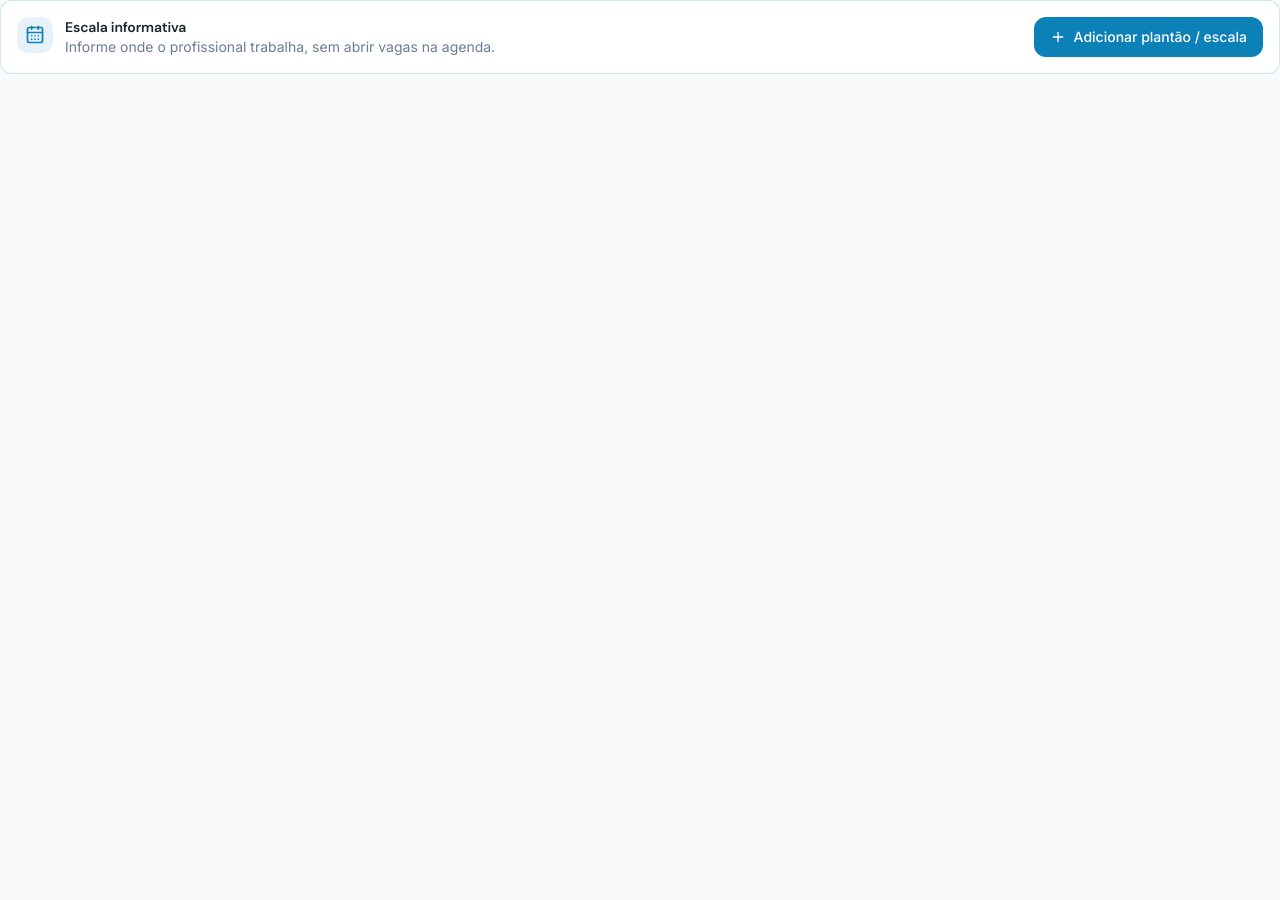
Test case: cadastro informativo › informa quantos dias da semana serão repetidos, sem contar a mesma segunda duas vezes
Click the button "Adicionar plantão / escala": (1148, 37) [1034,17,1263,57]
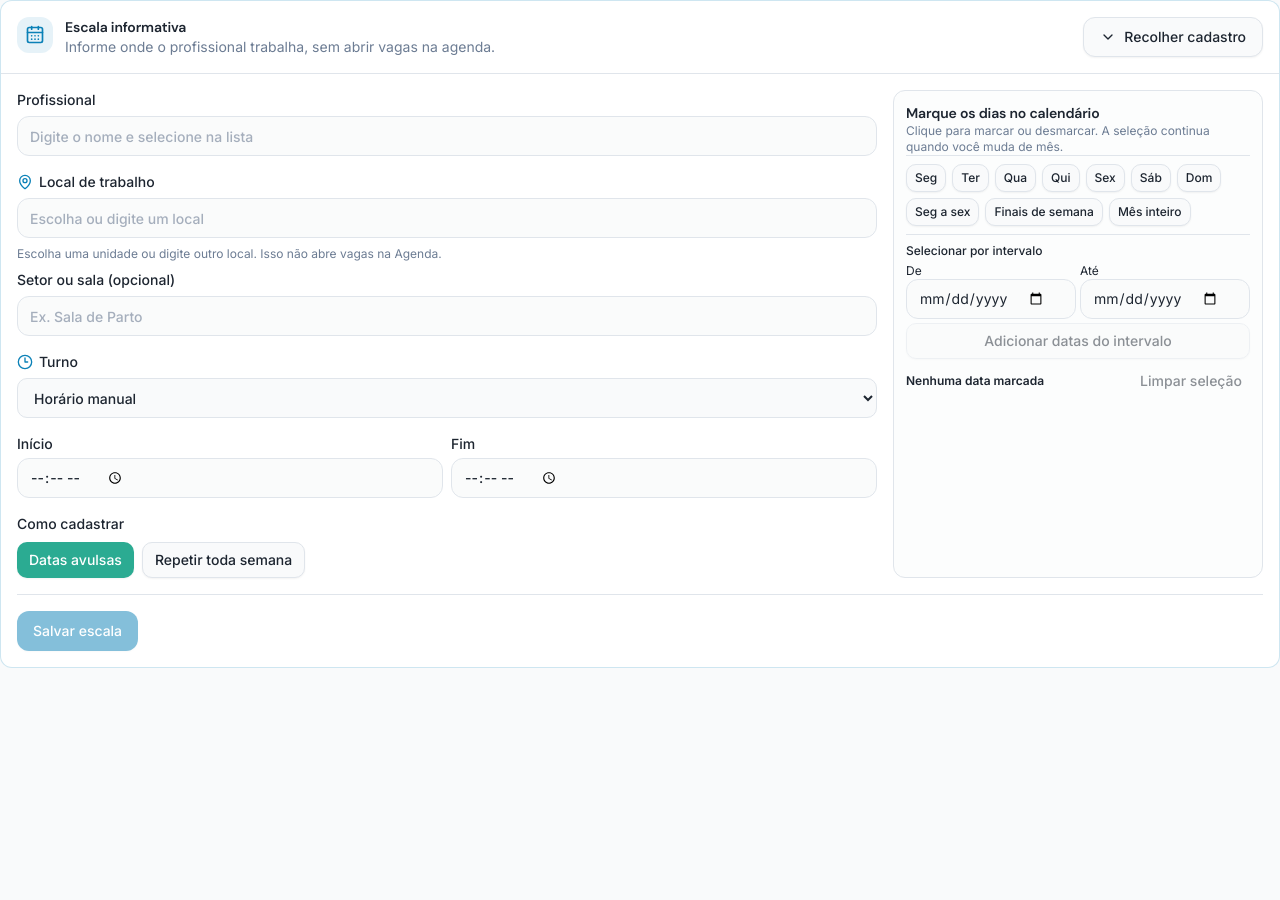
Click the button "Seg": (926, 178) [906,164,946,192]
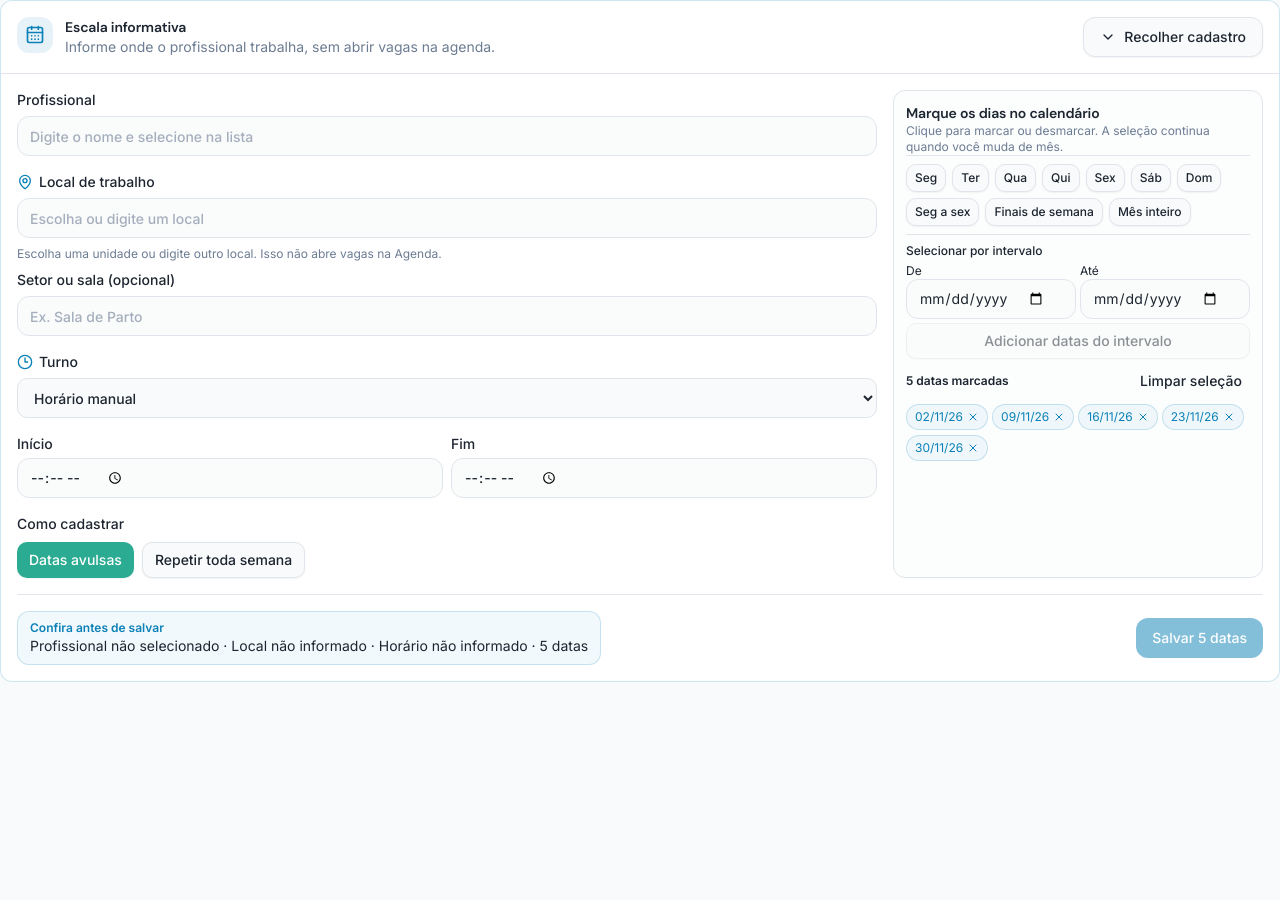
Click the button "Ter": (971, 178) [952,164,989,192]
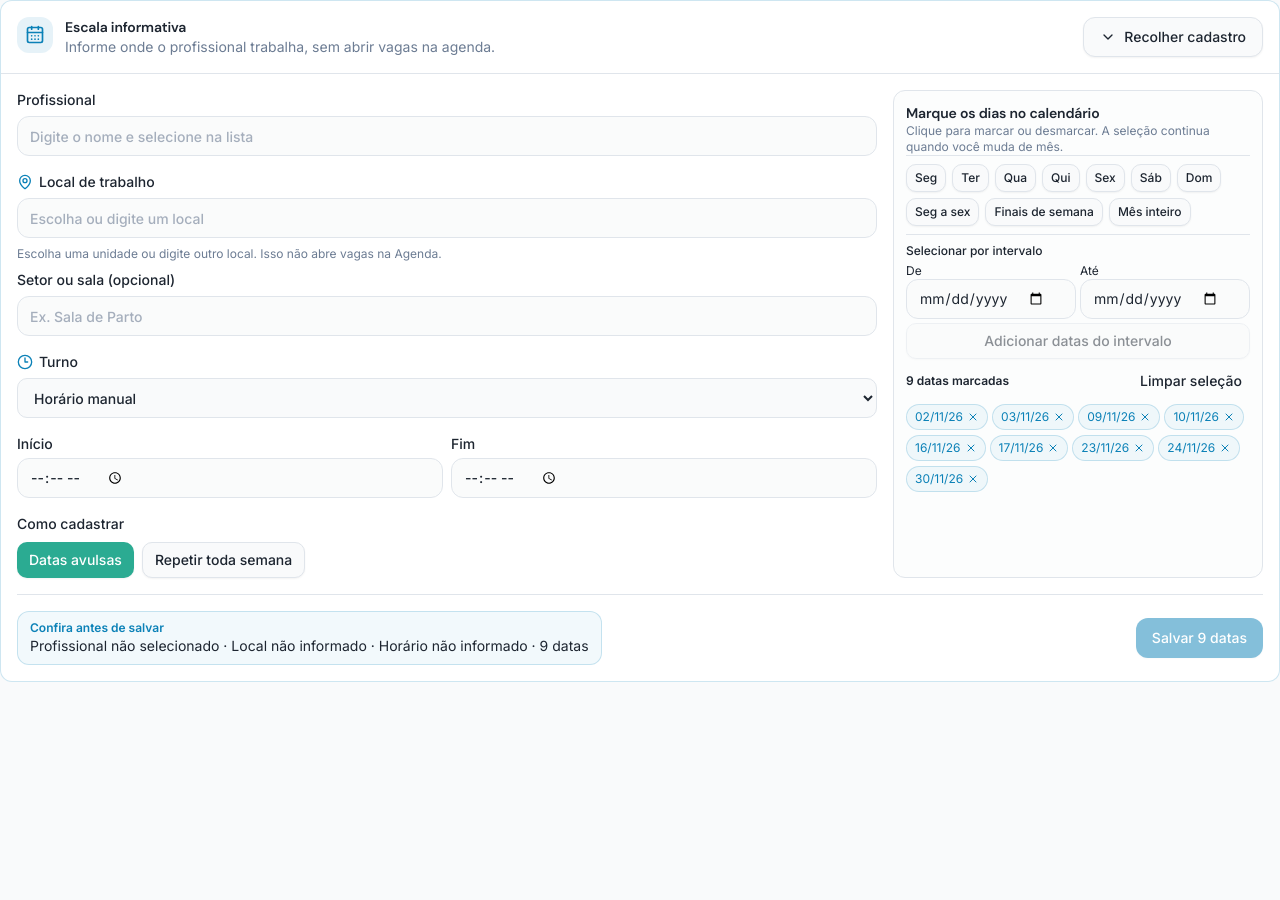
Click the button "Repetir toda semana": (224, 560) [142,542,305,578]
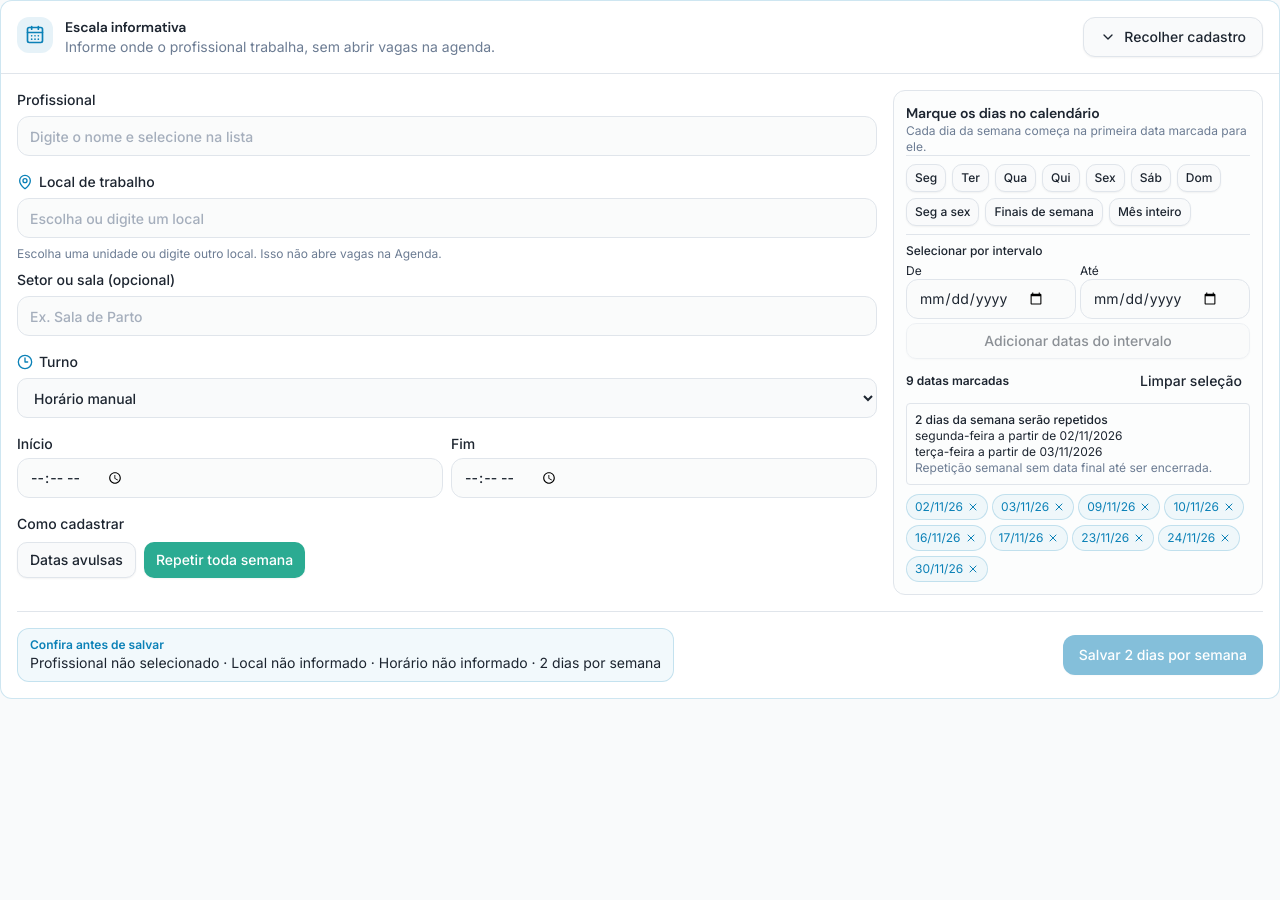
Result: the text "2 dias da semana serão repetidos" is shown at [915,412,1108,427]
Result: the button "Salvar 2 dias por semana" is shown at [1063,635,1263,675]
